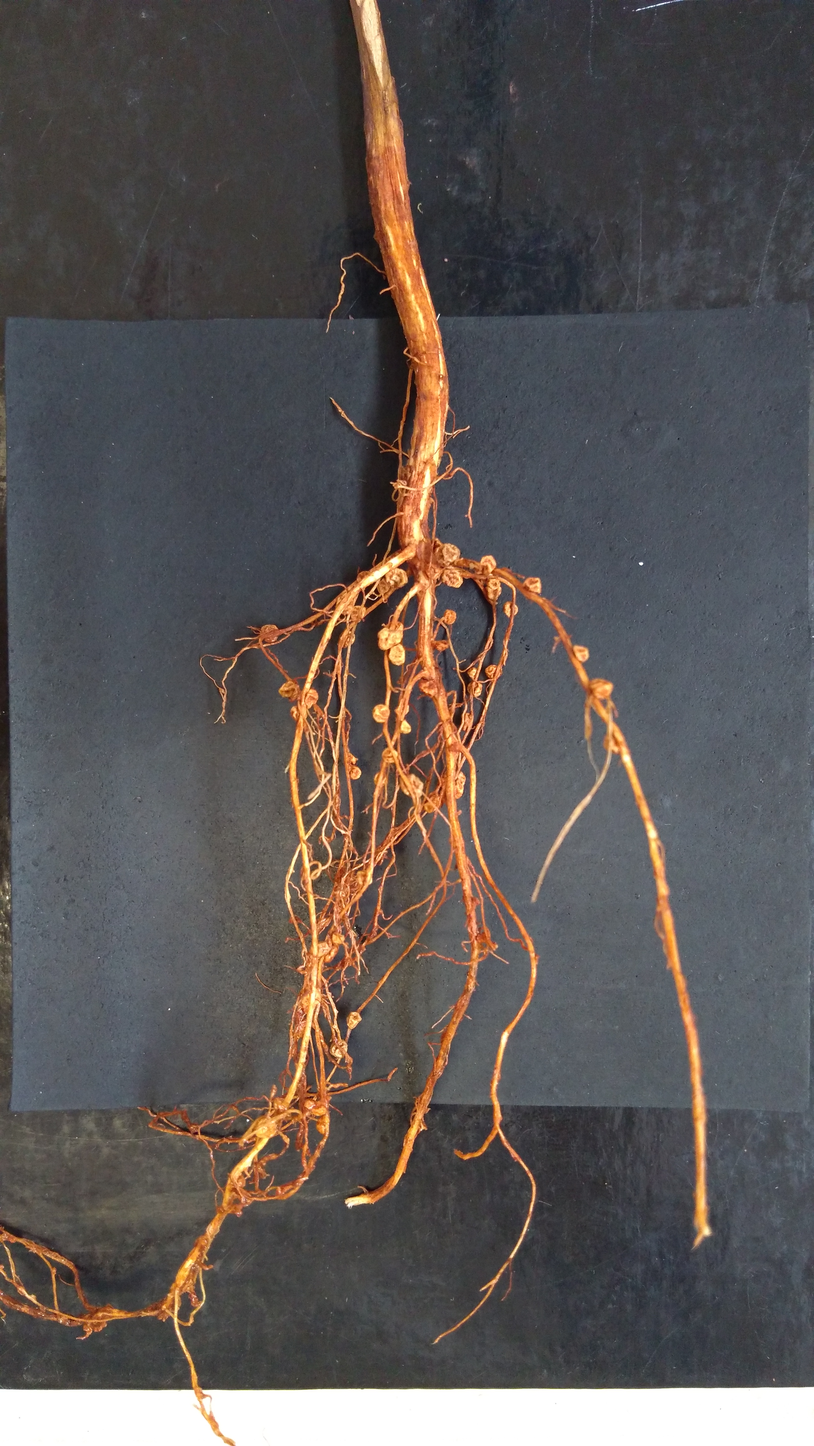nodule: (376, 621, 405, 650), (585, 677, 617, 702), (433, 542, 461, 568), (397, 772, 424, 798), (383, 567, 409, 589), (336, 588, 358, 614), (254, 1117, 278, 1139), (601, 730, 622, 755), (386, 642, 407, 666), (329, 1037, 350, 1061), (440, 568, 465, 588), (483, 577, 502, 603), (423, 791, 443, 815), (260, 623, 281, 644), (370, 703, 390, 725), (417, 678, 439, 698), (479, 553, 498, 576), (454, 770, 468, 800), (571, 643, 591, 664), (522, 576, 542, 596), (309, 940, 332, 957), (304, 686, 320, 709), (337, 629, 356, 648), (277, 679, 296, 698), (380, 747, 401, 764), (483, 663, 504, 680), (272, 1096, 290, 1115), (345, 1010, 362, 1030), (355, 869, 374, 886), (323, 945, 340, 964), (502, 600, 519, 618), (393, 701, 410, 717), (466, 681, 483, 697), (442, 608, 457, 626), (351, 605, 366, 623), (431, 639, 451, 652), (397, 719, 412, 736), (372, 770, 387, 787), (347, 764, 362, 780), (375, 578, 390, 594), (314, 1117, 328, 1134), (331, 931, 346, 945), (288, 705, 301, 721), (356, 571, 372, 584), (311, 1104, 326, 1116), (234, 1173, 246, 1188), (466, 666, 478, 679), (302, 1098, 316, 1109)
